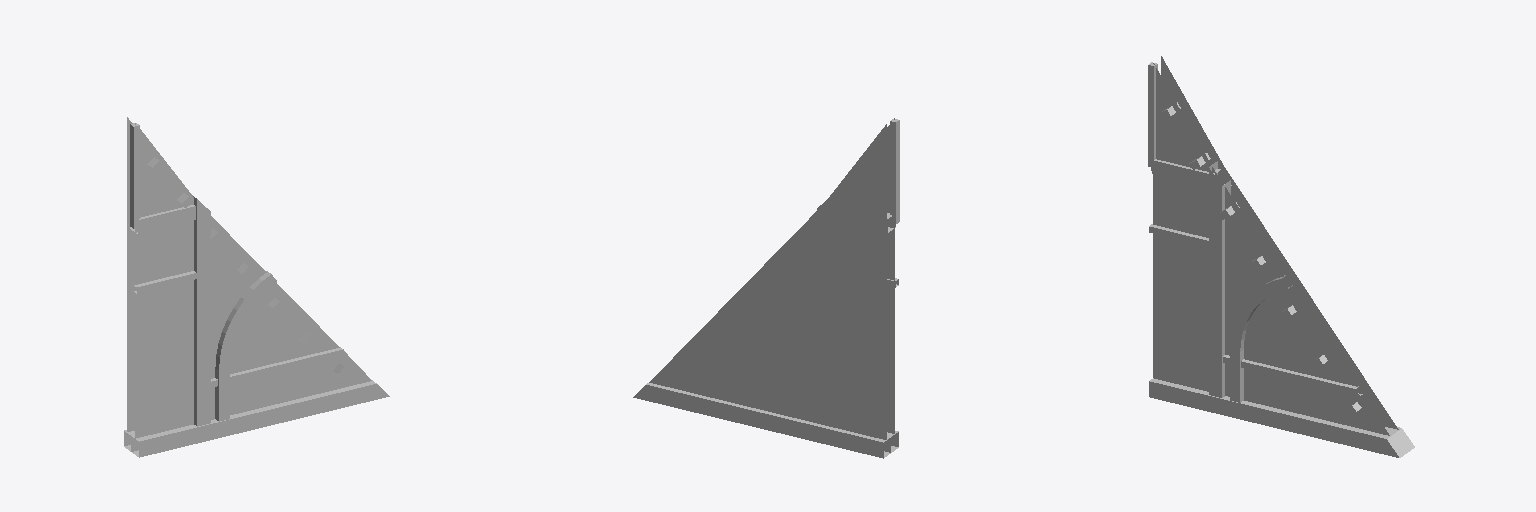
File: Roof_Front_Brick8_Half_R.obj
The picture shows the model from 3 angles: view 1: azimuth 30°, elevation 25°; view 2: azimuth 150°, elevation 25°; view 3: azimuth 330°, elevation 25°; orthographic projection.
Visible parts, largest first — view 1: Roof_Front_Brick8_Half_R; view 2: Roof_Front_Brick8_Half_R; view 3: Roof_Front_Brick8_Half_R.
Boxes of the visible parts, x1,y1,x2,y2 form: Roof_Front_Brick8_Half_R: [124, 117, 389, 457]; Roof_Front_Brick8_Half_R: [633, 118, 899, 458]; Roof_Front_Brick8_Half_R: [1148, 56, 1414, 457].
Bounding box in the file's own units: 4.35 × 5.45 × 0.4896.